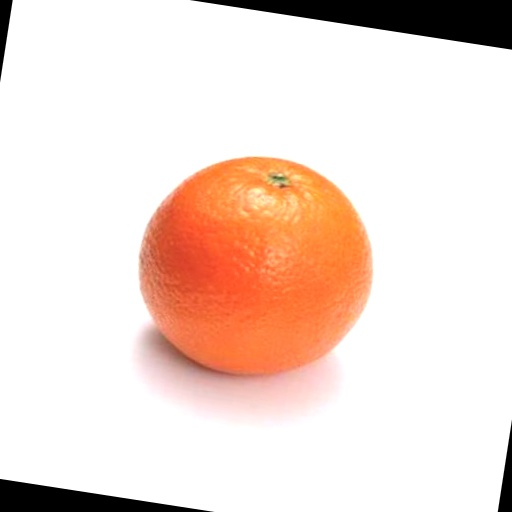fruit: (138, 157, 371, 374)
